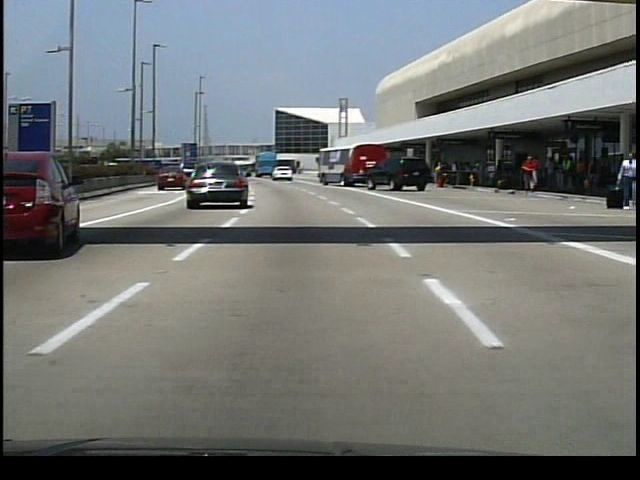person: (617, 152, 639, 209), (517, 152, 539, 193), (585, 156, 603, 194), (559, 152, 572, 191), (433, 159, 447, 189), (497, 157, 508, 186)
